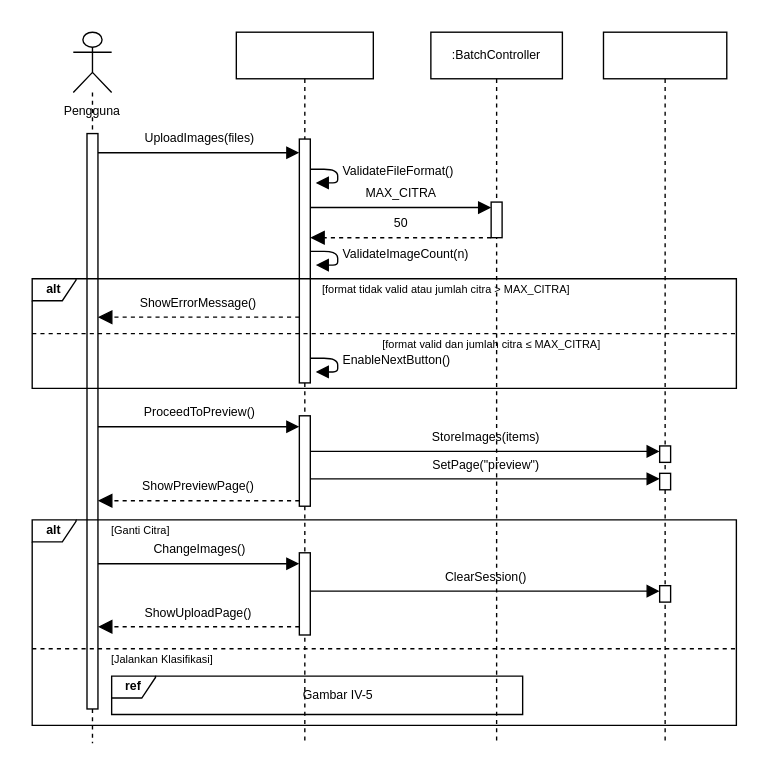
This 767x773 diagram has some shape labels left out. The shapes that lost their labels are listed below. From the top down, each one's box as (x1, y1, x2, y2) in pixels, then its label:
(235, 31, 373, 743): :KlasifikasiView
(602, 31, 727, 743): :SessionState
